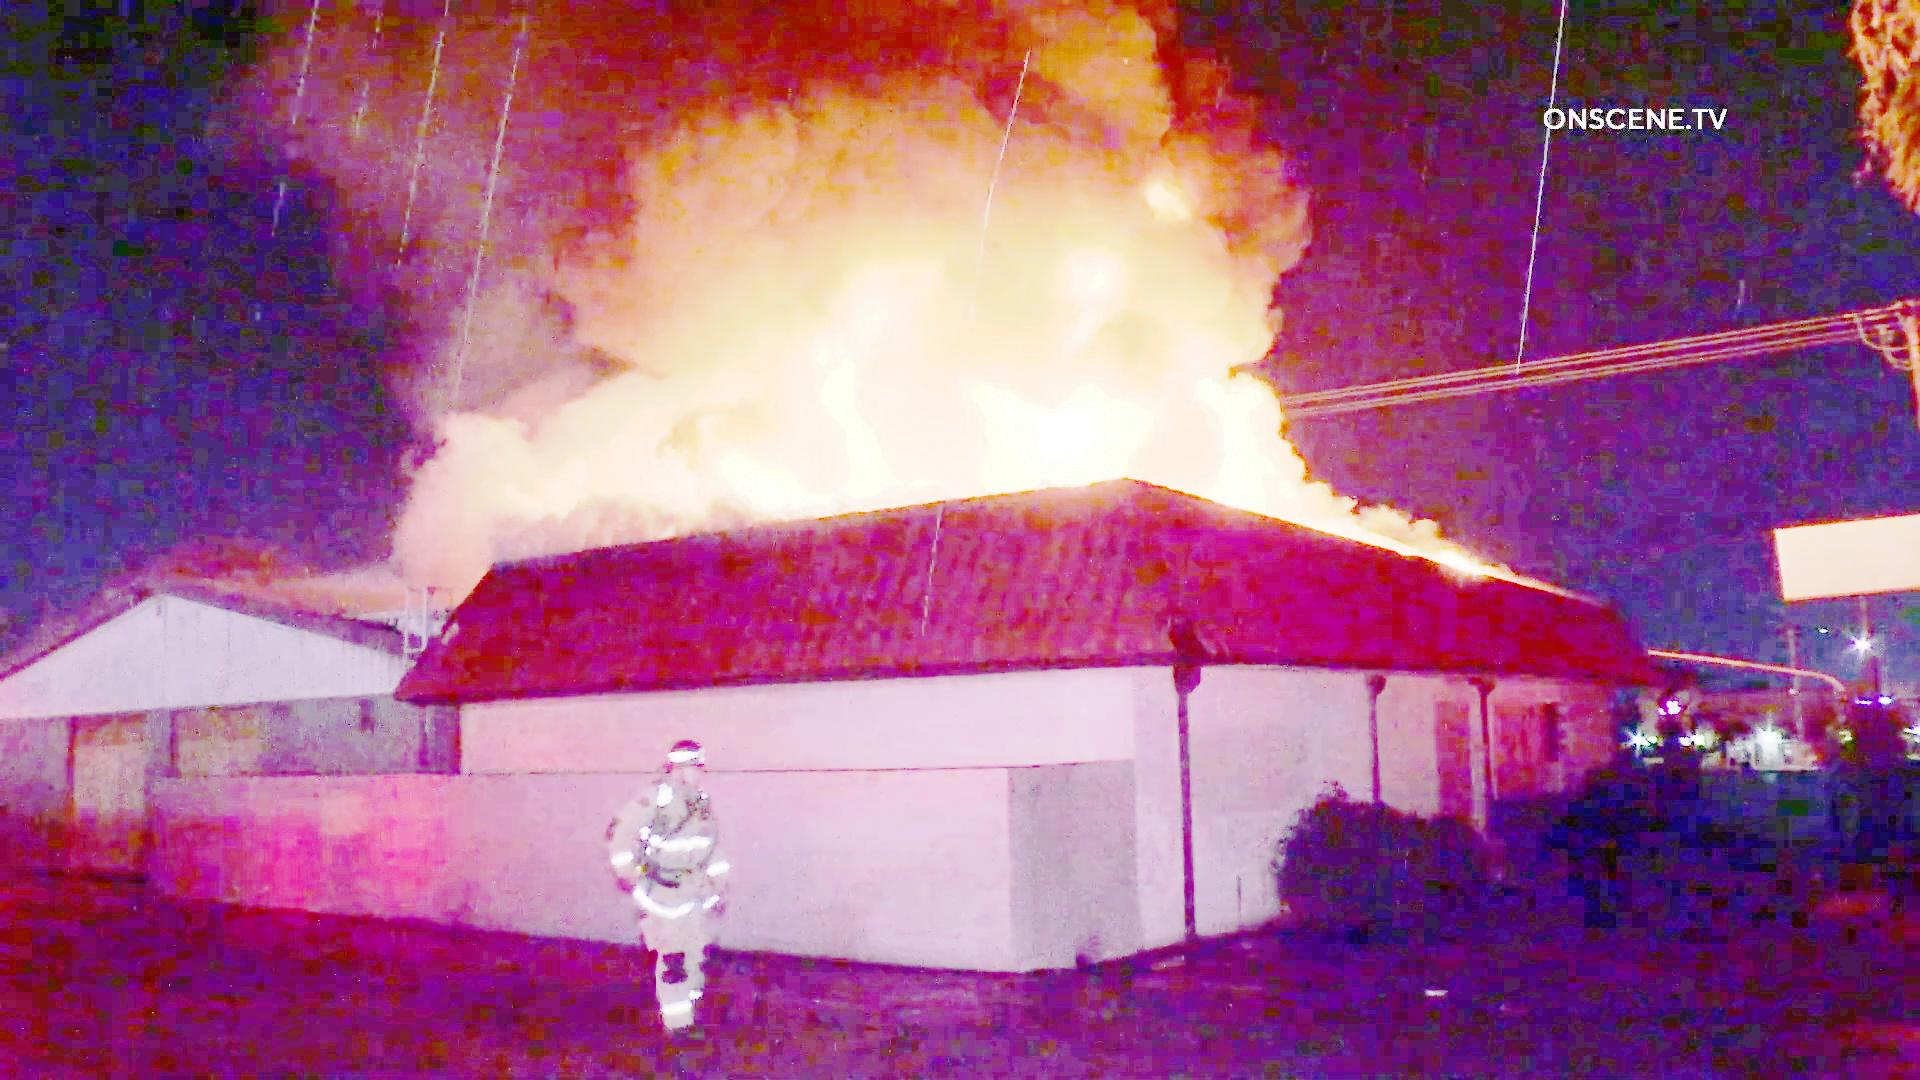fire: (963, 353, 1189, 480), (807, 310, 913, 514), (1151, 388, 1308, 501)
smoke: (608, 25, 1255, 257)
